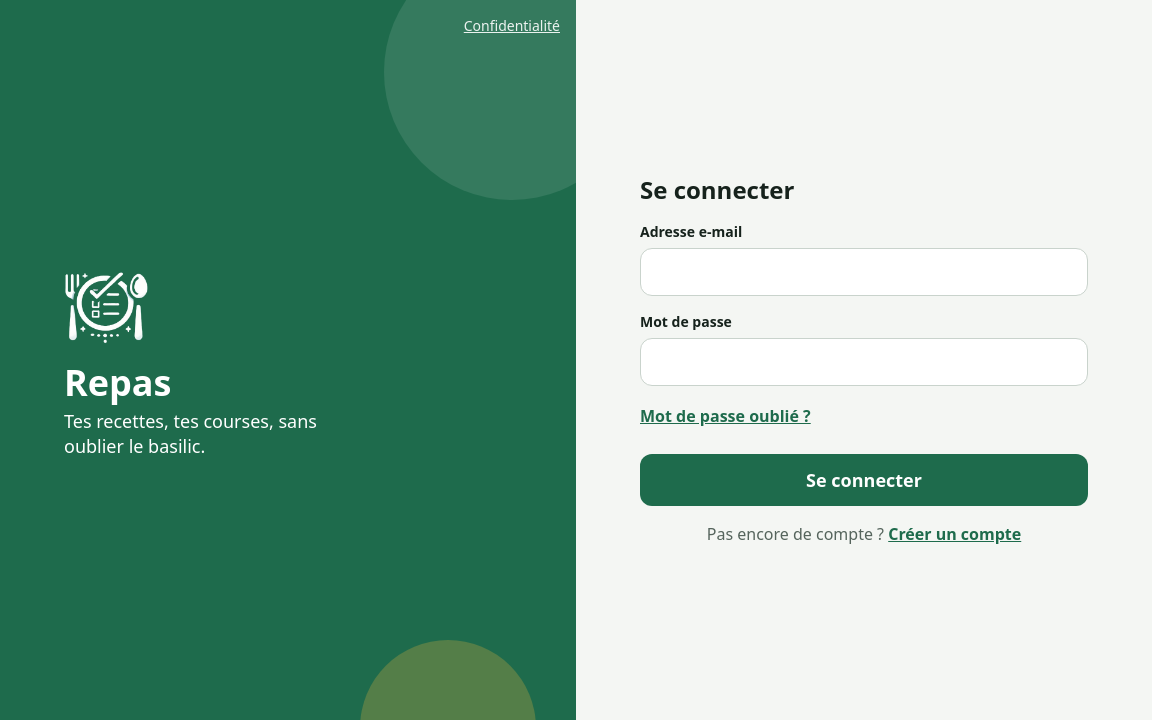
Test case: LoginView › explique une adresse pas encore confirmée (403) et propose de renvoyer le lien
The width and height of the screenshot is (1152, 720).
In the field labelled "Adresse e-mail": coordinates (864, 272) [640, 248, 1088, 296], type "alexiane@example.com"
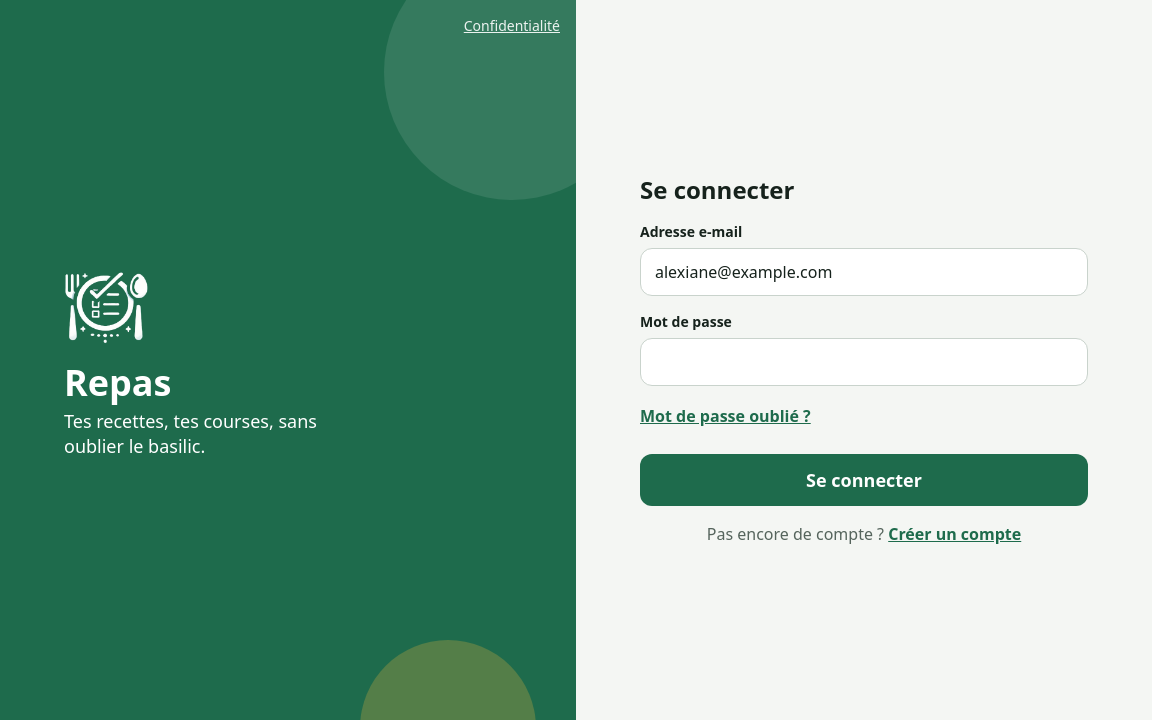
Submit the form, box [640, 222, 1088, 506]
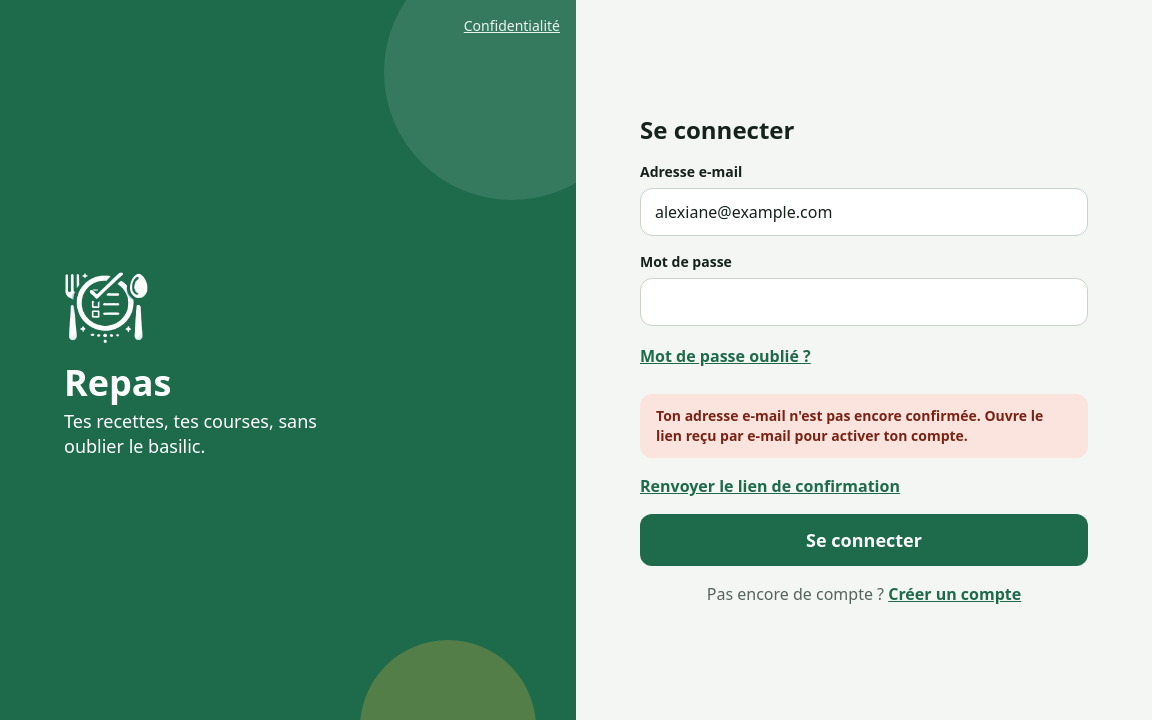
Expected: the message shows "Ton adresse e-mail n'est pas encore confirmée. Ouvre le lien reçu par e-mail pour activer ton compte.", [656, 406, 1043, 445]
Expected: the link "Renvoyer le lien de confirmation" is shown, [640, 475, 900, 497]
